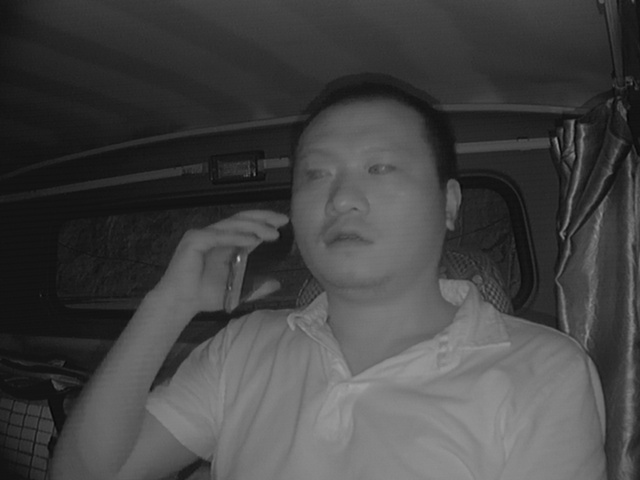hand: (172, 202, 282, 313)
